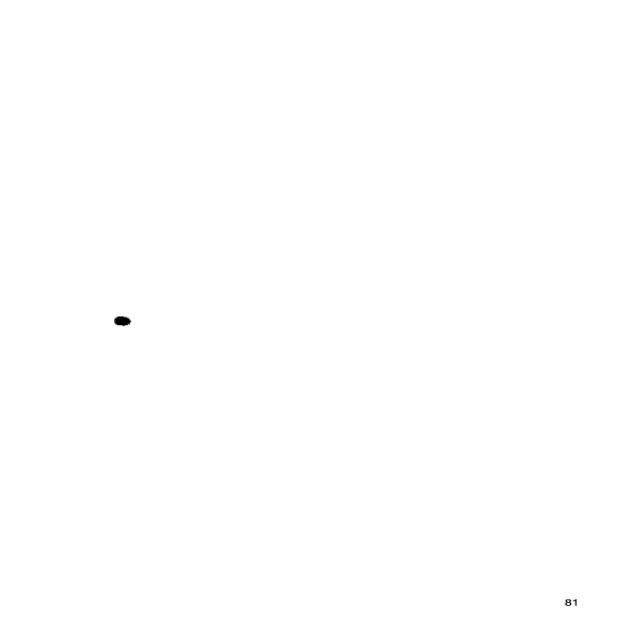0 -zero-: (108, 310, 140, 334)
